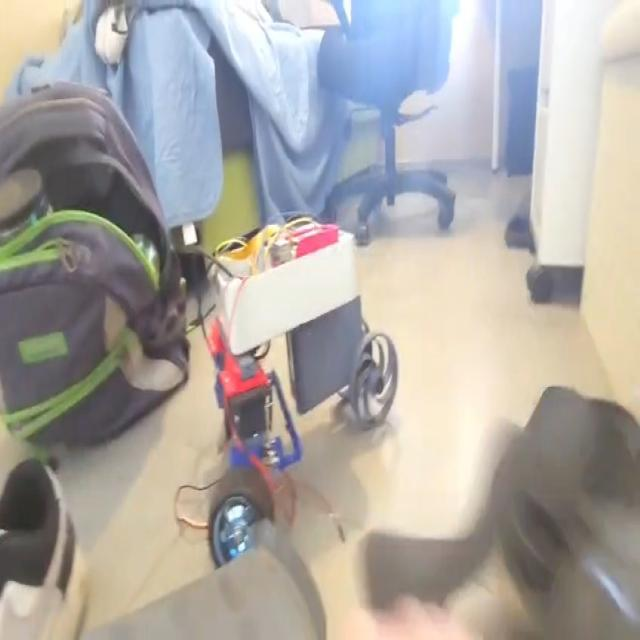Robot: (205, 214, 399, 576)
